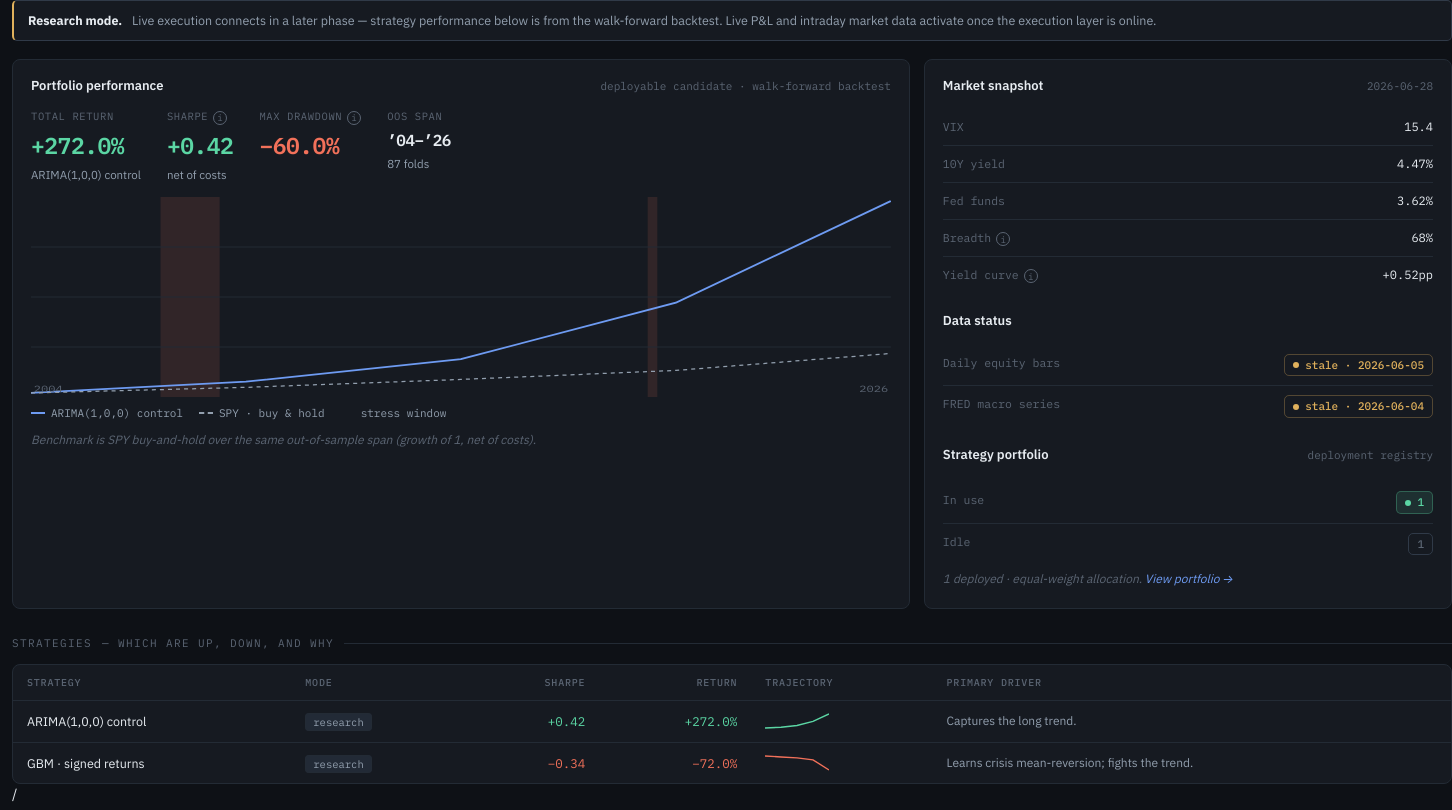
it: Overview panel › lists every strategy and navigates to its detail on click
The image size is (1452, 810).
Click the link with aria-label "Open ARIMA(1,0,0) control detail": (732, 721) [13,700,1451,742]
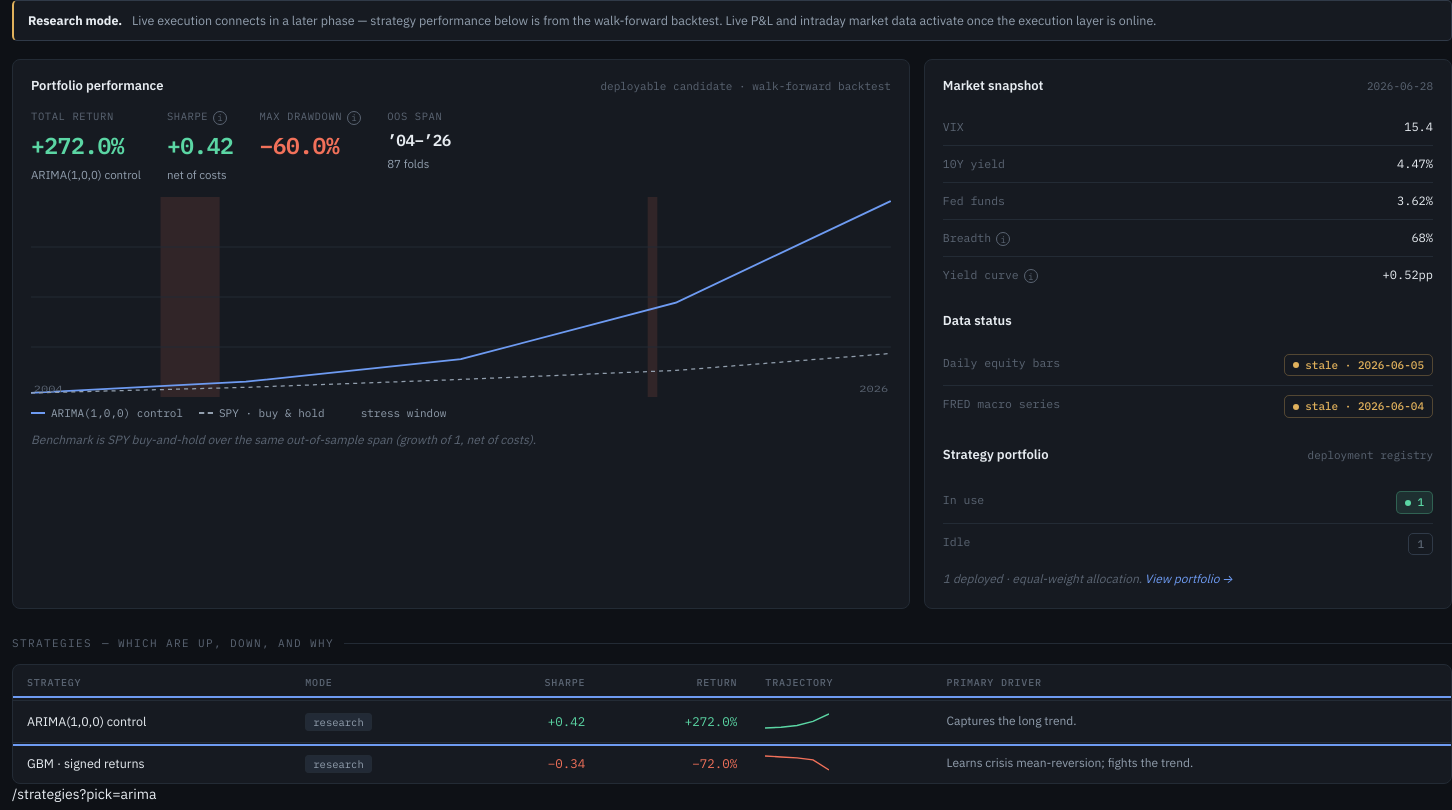
Expected: the text with test id "loc" reads "/strategies?pick=arima", [12,785,156,803]
